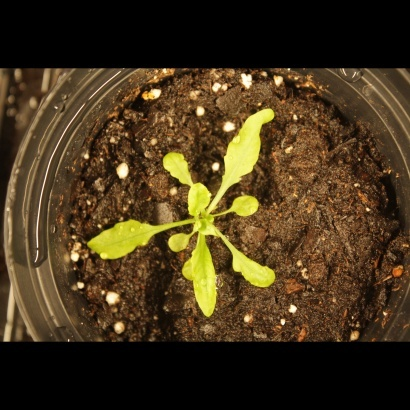leaf: (217, 103, 275, 195), (179, 233, 229, 320), (83, 218, 168, 264), (226, 241, 280, 293), (159, 146, 193, 188), (186, 181, 214, 220), (230, 190, 264, 219), (167, 229, 191, 256)
